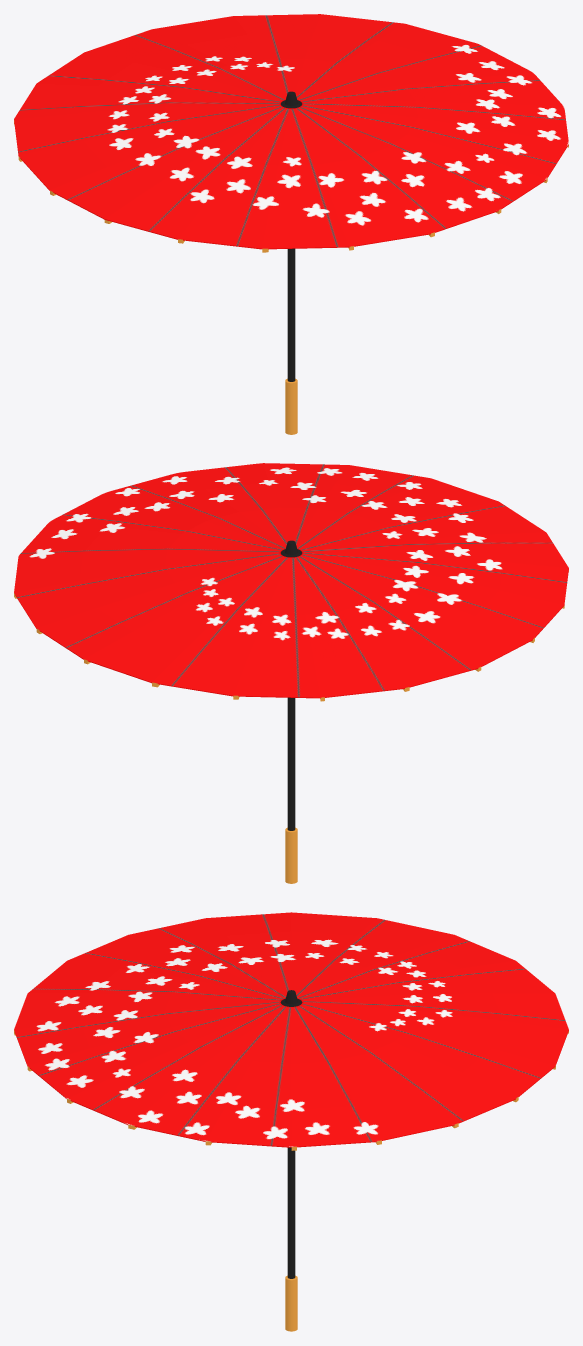
The model's file is obj_japanese_umbrella_3da333.glb.
The picture shows the model from 3 angles, top to bottom: view 1: azimuth 30°, elevation 25°; view 2: azimuth 150°, elevation 25°; view 3: azimuth 270°, elevation 25°; orthographic projection.
Parts seen in each view (by area): view 1: obj_japanese_umbrella_3da333; view 2: obj_japanese_umbrella_3da333; view 3: obj_japanese_umbrella_3da333.
Part boxes in pixels (box(x1,y1,x2,y2)): obj_japanese_umbrella_3da333: box(14, 14, 568, 434); obj_japanese_umbrella_3da333: box(14, 463, 568, 883); obj_japanese_umbrella_3da333: box(14, 912, 568, 1331).
Bounding box in the file's own units: 3.58 × 2.4 × 3.58.
4 materials, 1 textured.
